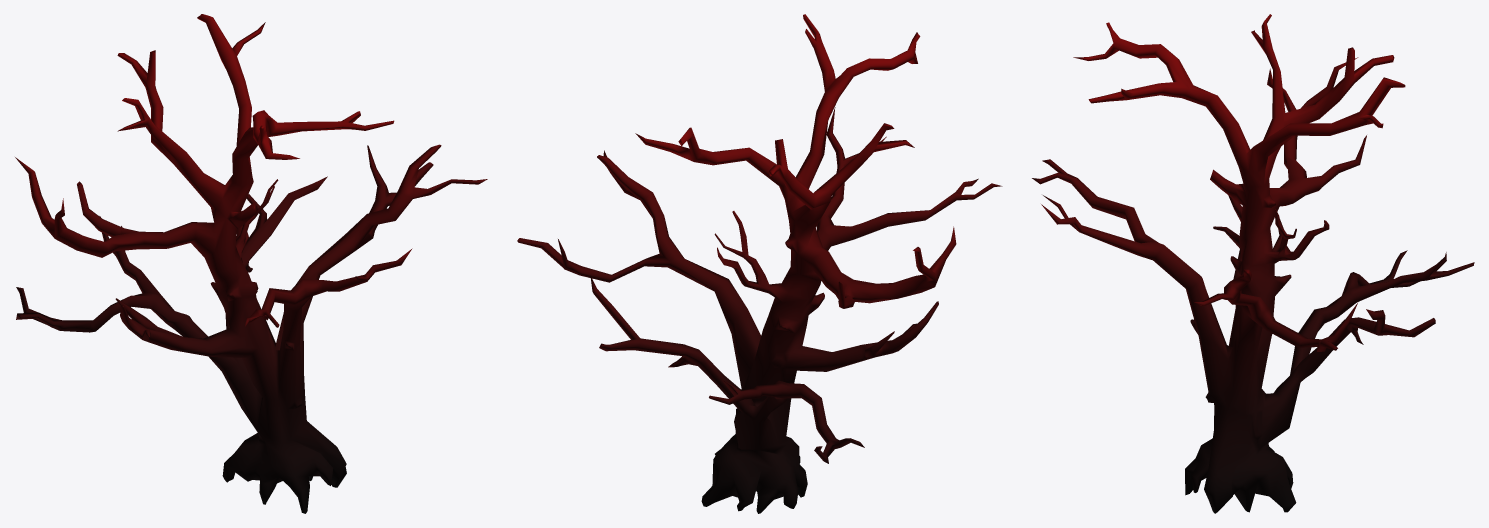
Rendered from SM_Env_Tree_Dead_01.fbx.
The picture shows the model from 3 angles, left to right: view 1: azimuth 30°, elevation 25°; view 2: azimuth 150°, elevation 25°; view 3: azimuth 270°, elevation 25°; orthographic projection.
Parts seen in each view (by area): view 1: SM_Env_Tree_Dead_01; view 2: SM_Env_Tree_Dead_01; view 3: SM_Env_Tree_Dead_01.
Boxes of the visible parts, x1,y1,x2,y2 form: SM_Env_Tree_Dead_01: (15,14,487,513); SM_Env_Tree_Dead_01: (517,14,1002,513); SM_Env_Tree_Dead_01: (1032,14,1474,513).
Bounding box in the file's own units: 1129 × 1162 × 1078.
